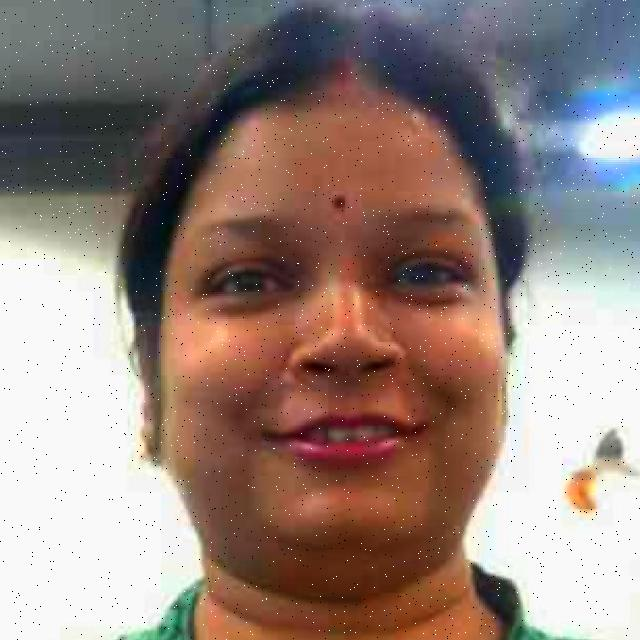puffy_eyes: (203, 295, 287, 314), (391, 287, 474, 302)
